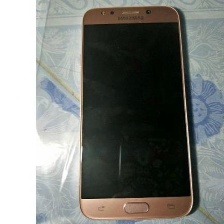phone: (75, 1, 196, 222)
